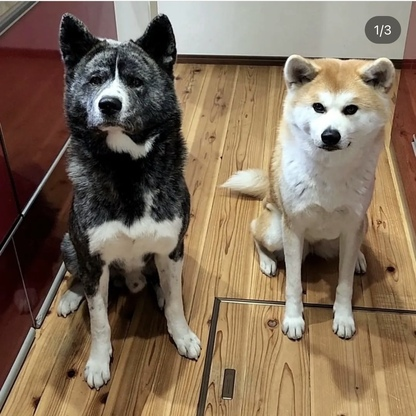akita: (41, 9, 210, 393), (217, 49, 403, 346)
